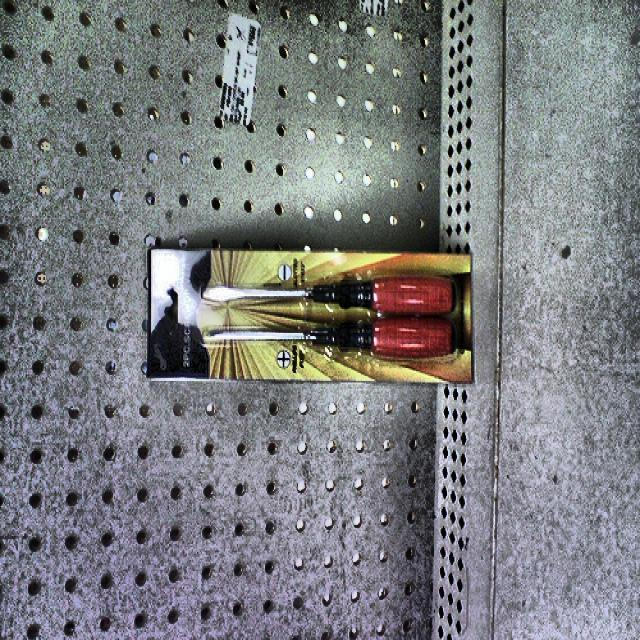screwdriver: (202, 274, 458, 314), (202, 320, 456, 355)
